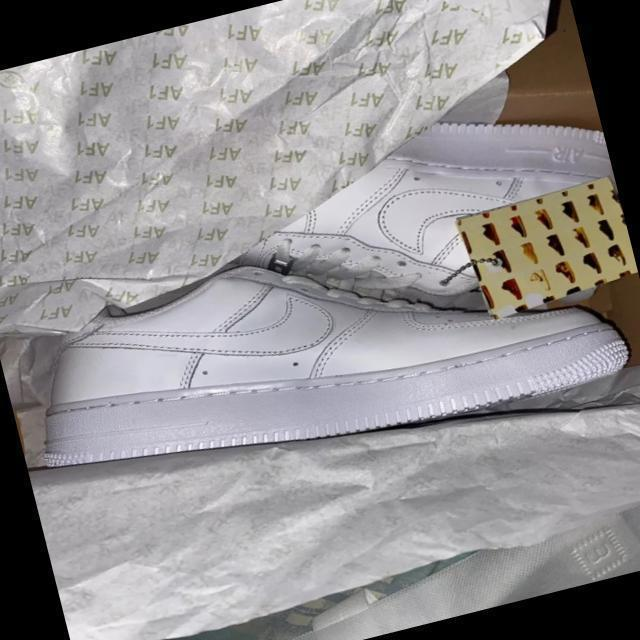nike fake air force: (5, 171, 635, 520)
